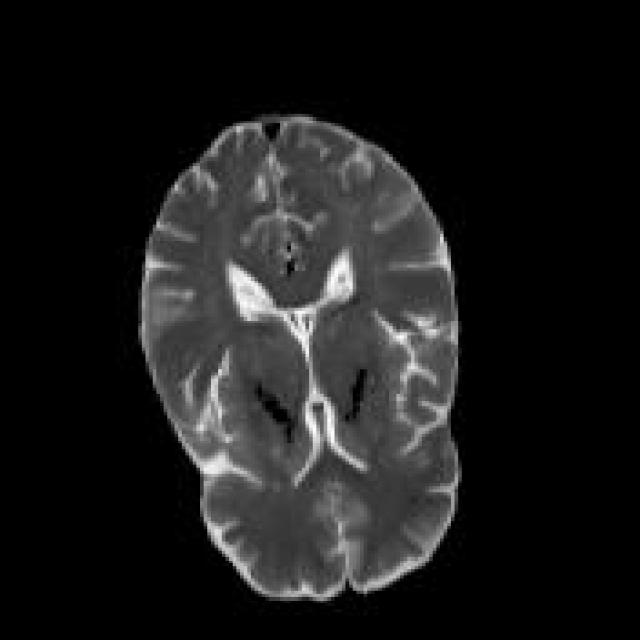CONTROL: (134, 111, 462, 600)
